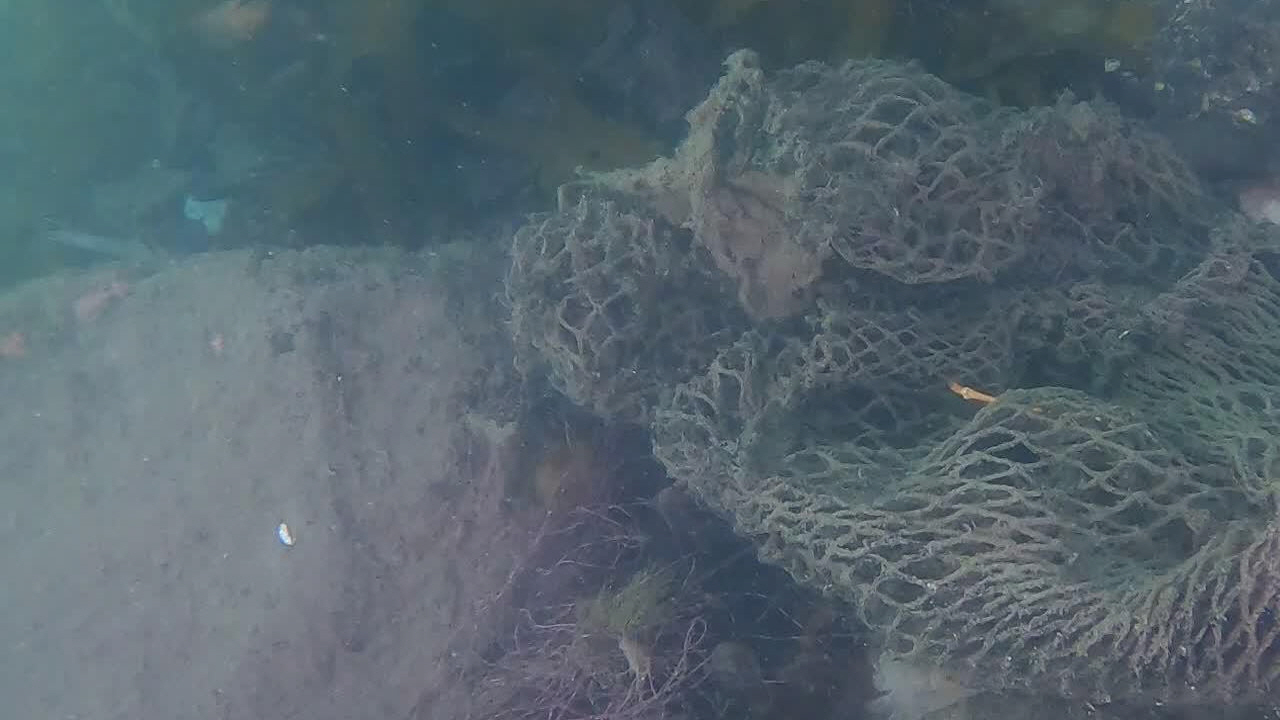fish net: (505, 50, 1278, 719)
